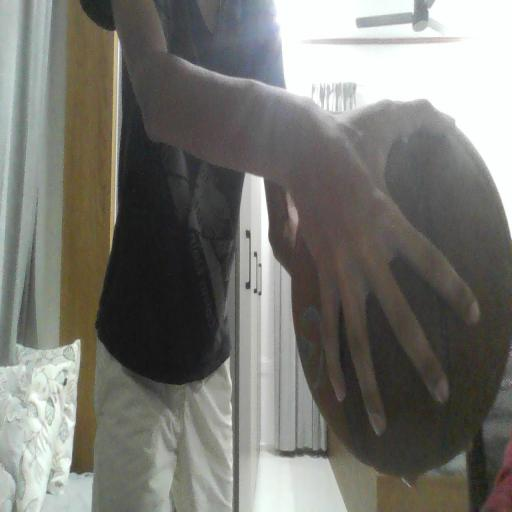basketball: (292, 126, 511, 477)
